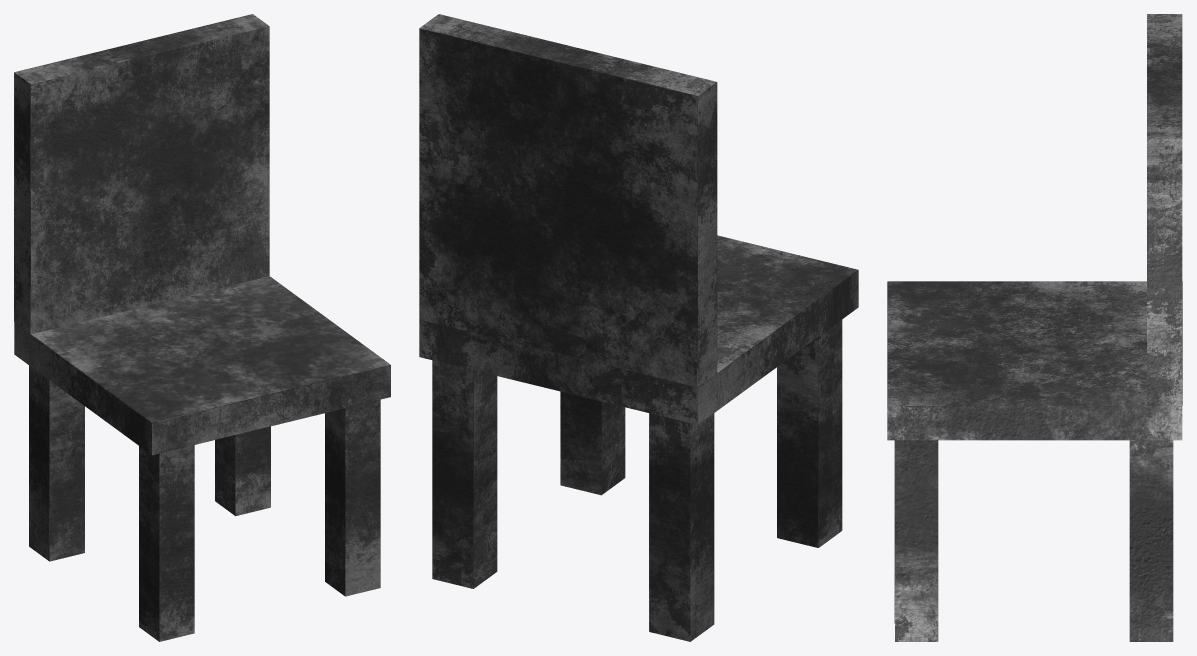
Rendered from Chair.fbx.
The picture shows the model from 3 angles, left to right: view 1: azimuth 30°, elevation 25°; view 2: azimuth 150°, elevation 25°; view 3: azimuth 270°, elevation 25°; orthographic projection. The views are drawn at different scales.
Visible parts, largest first — view 1: Chair; view 2: Chair; view 3: Chair.
Part boxes in pixels (<box>): Chair: <box>14,14,390,641</box>; Chair: <box>419,14,858,641</box>; Chair: <box>887,14,1182,641</box>.
Size of the model in its own units: 10.11 by 19.17 by 10.12.
Materials: 1 (1 with a texture image).
